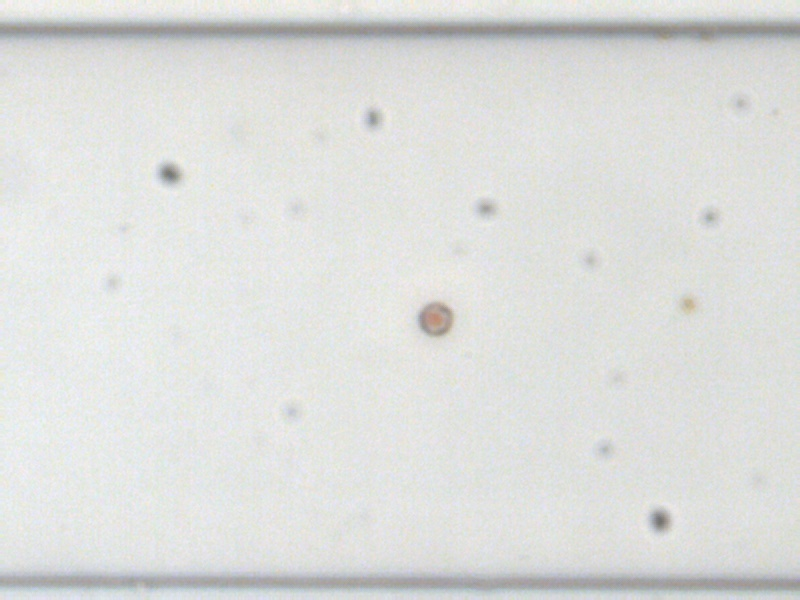Chlorella: (680, 295, 697, 311)
Porphyridium: (417, 301, 452, 336)
